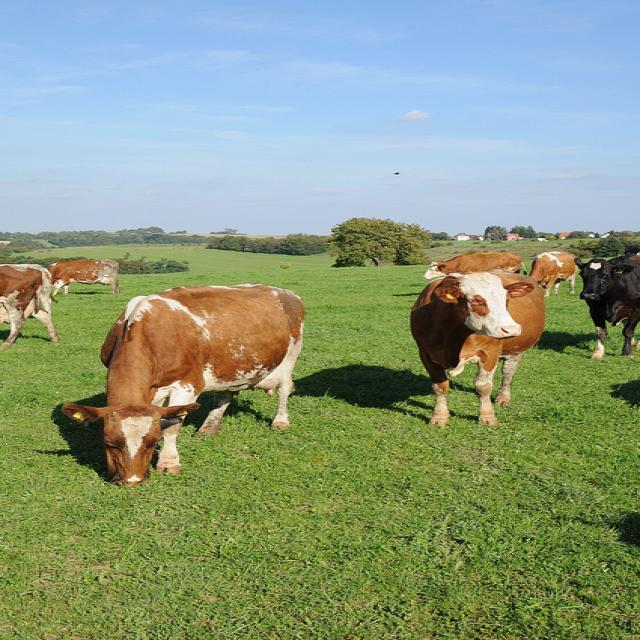cow: (59, 279, 301, 487), (407, 271, 545, 426), (572, 246, 639, 361), (0, 261, 62, 347), (419, 251, 527, 280), (45, 259, 119, 295), (527, 249, 575, 296)
